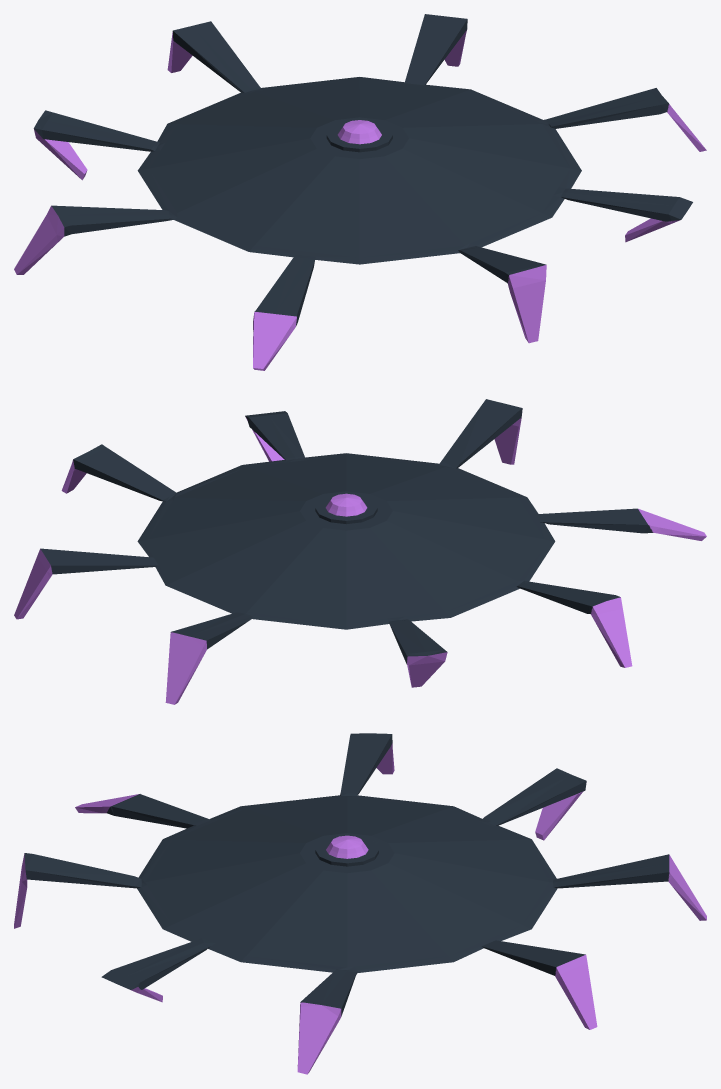
File: Spider_Walk_000007.obj
The picture shows the model from 3 angles, top to bottom: view 1: azimuth 30°, elevation 25°; view 2: azimuth 150°, elevation 25°; view 3: azimuth 270°, elevation 25°; orthographic projection. The views are drawn at different scales.
Visible parts, largest first — view 1: Circle_Circle.001; view 2: Circle_Circle.001; view 3: Circle_Circle.001.
Boxes of the visible parts, x1=… form: Circle_Circle.001: x1=14, y1=14, x2=706, y2=370; Circle_Circle.001: x1=14, y1=399, x2=706, y2=704; Circle_Circle.001: x1=14, y1=733, x2=706, y2=1074.
Bounding box in the file's own units: 3.36 × 0.4512 × 3.25.
